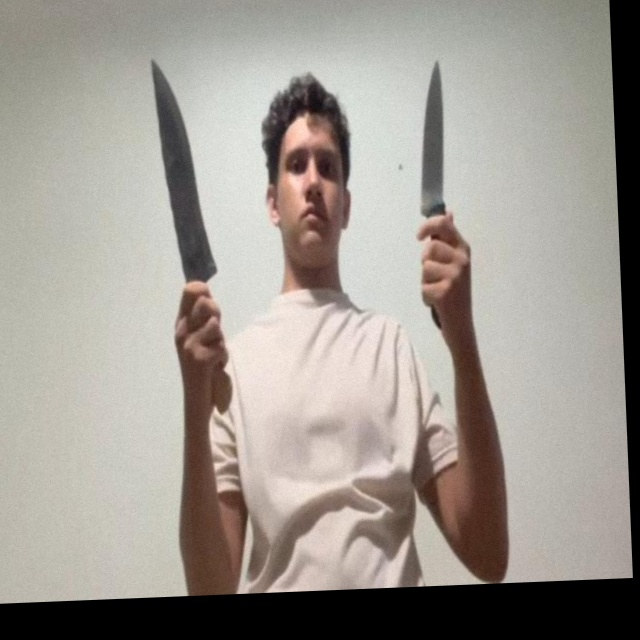Sharp-Object: (150, 57, 217, 279), (413, 60, 448, 213)
